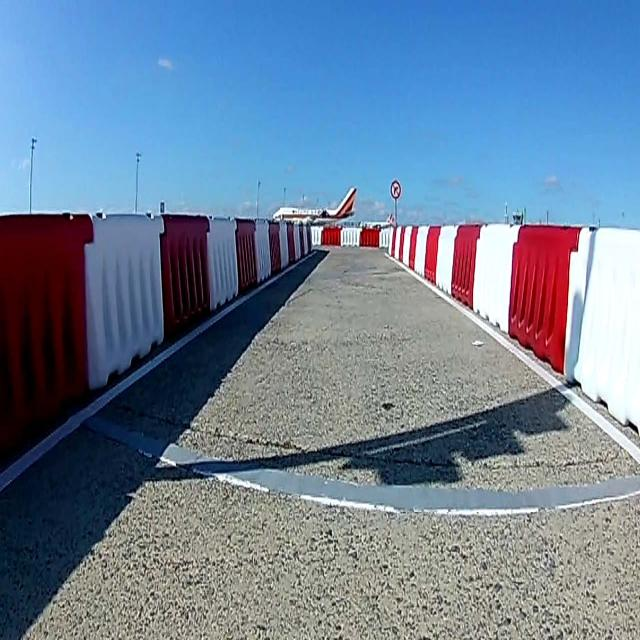sagadonulmez: (389, 180, 402, 199)
